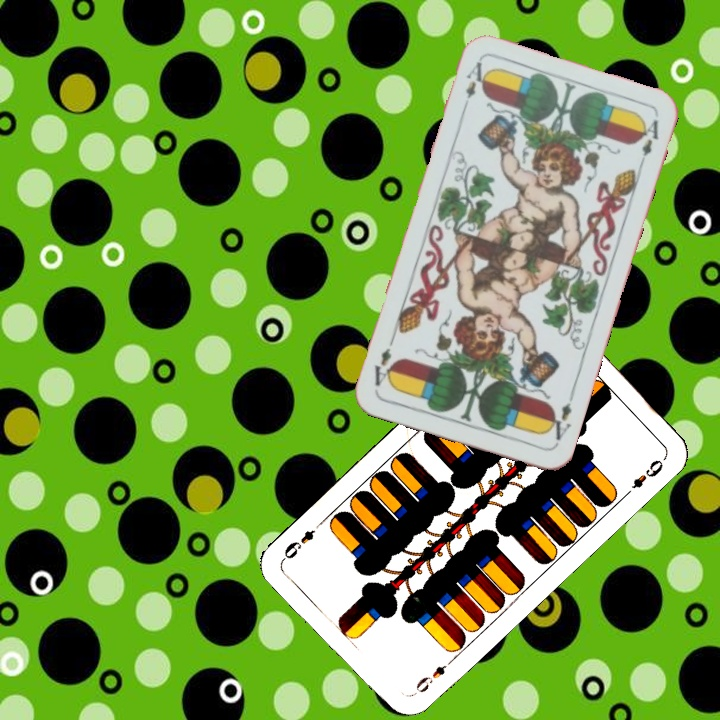E9: (409, 654, 457, 699)
EA: (542, 389, 577, 443), (458, 57, 490, 114)
